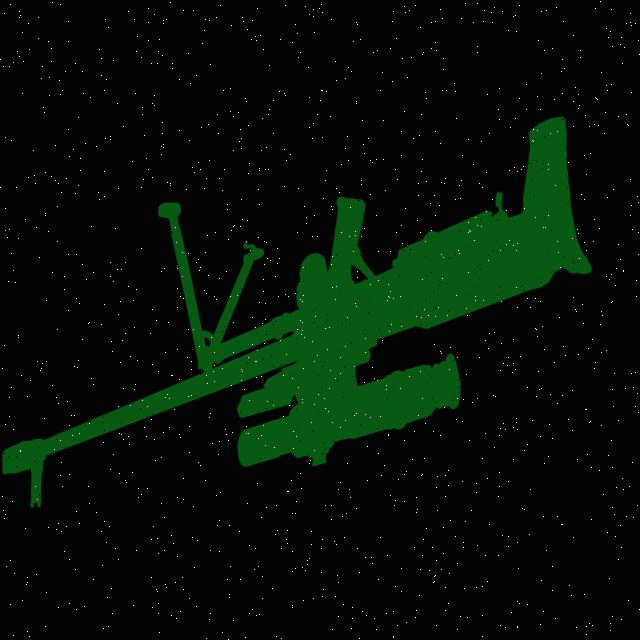firearm: (3, 118, 601, 511)
